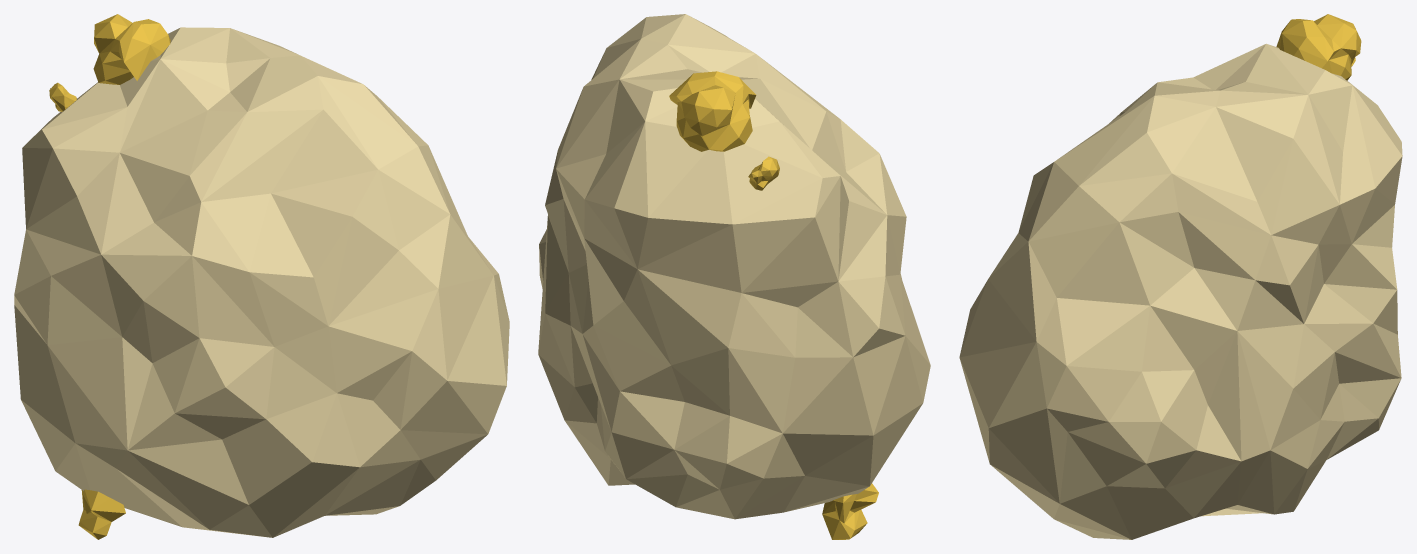
File: MetalOre (60).fbx
The picture shows the model from 3 angles, left to right: view 1: azimuth 30°, elevation 25°; view 2: azimuth 150°, elevation 25°; view 3: azimuth 270°, elevation 25°; orthographic projection. The views are drawn at different scales.
Parts seen in each view (by area): view 1: Asteroid415; view 2: Asteroid415; view 3: Asteroid415.
Boxes of the visible parts, x1,y1,x2,y2 form: Asteroid415: (14, 14, 509, 539); Asteroid415: (538, 14, 930, 539); Asteroid415: (959, 14, 1402, 539).
Bounding box in the file's own units: 391 × 442 × 379.
